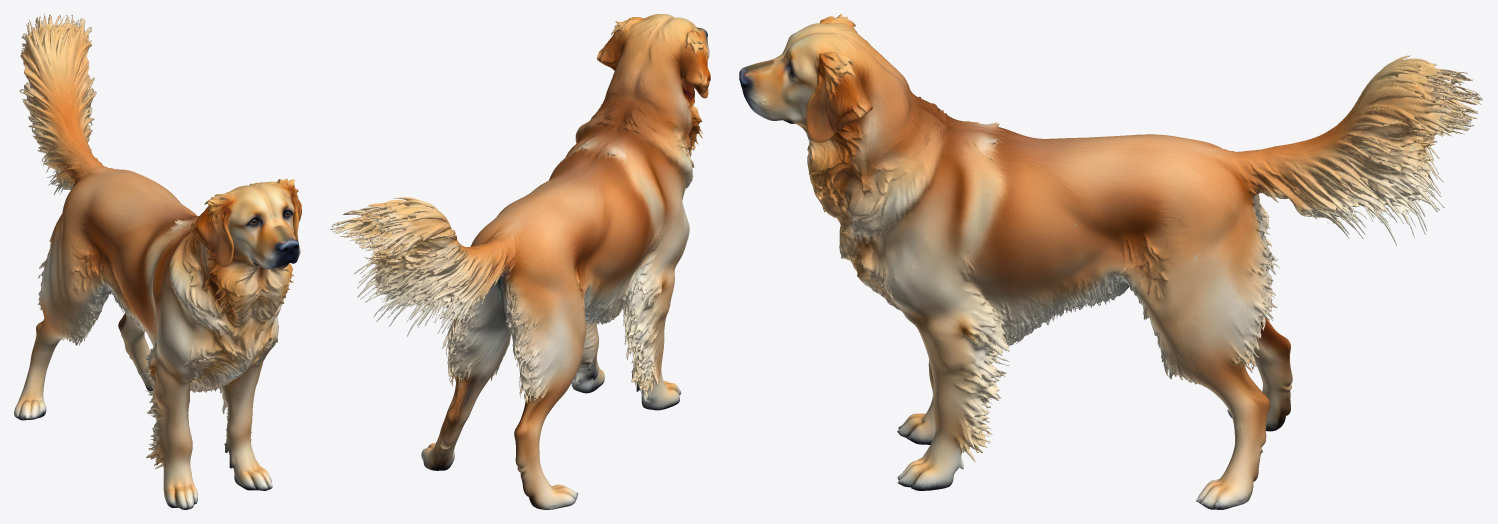
The picture shows the model from 3 angles, left to right: view 1: azimuth 30°, elevation 25°; view 2: azimuth 150°, elevation 25°; view 3: azimuth 270°, elevation 25°; orthographic projection. The views are drawn at different scales.
Parts seen in each view (by area): view 1: mesh_0; view 2: mesh_0; view 3: mesh_0.
Boxes of the visible parts, left/top/right/bottom form: mesh_0: left=14, top=14, right=301, bottom=509; mesh_0: left=330, top=14, right=710, bottom=509; mesh_0: left=739, top=14, right=1483, bottom=509.
Bounding box in the file's own units: 0.6066 × 1.21 × 1.89.
1 material, 1 textured.
